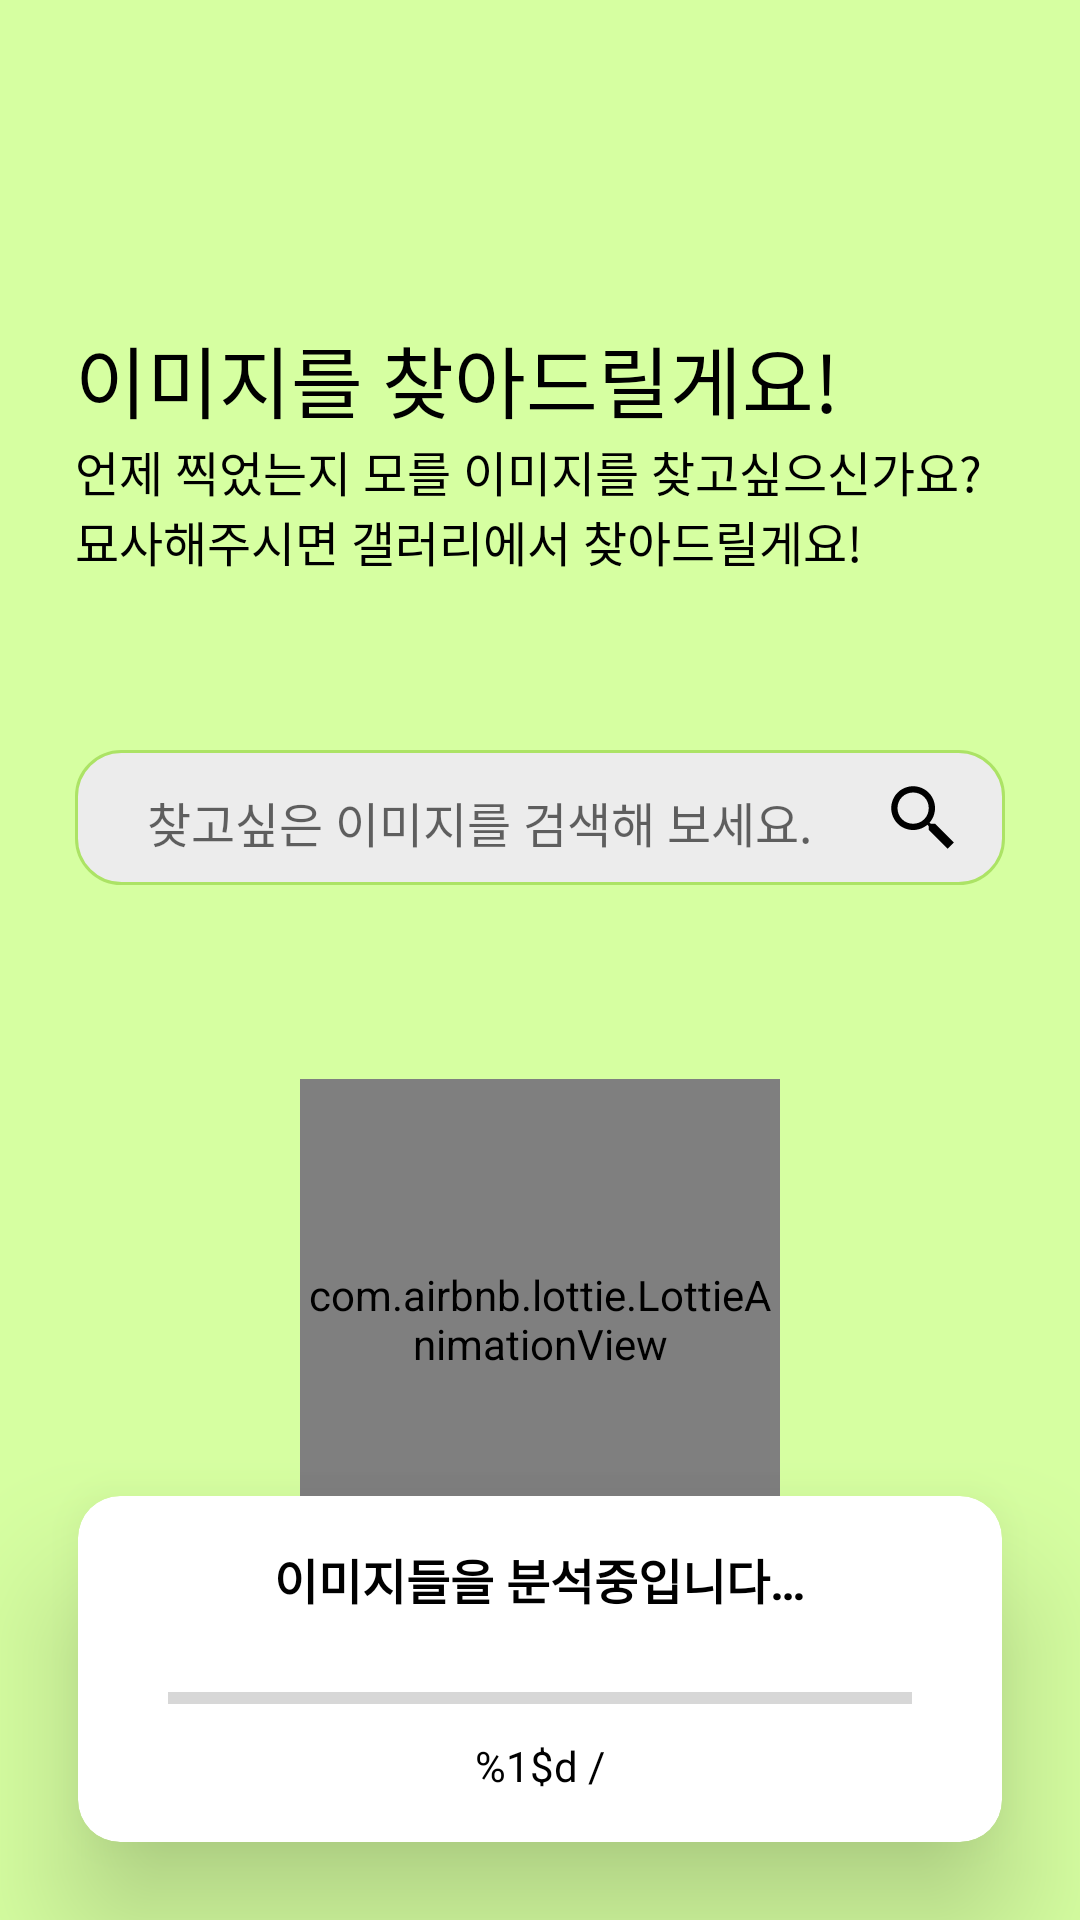

Icons on this 1080px×1920px Android screen, each with its box as (x1, y1, x2, y2):
search: (891, 786, 954, 849)
